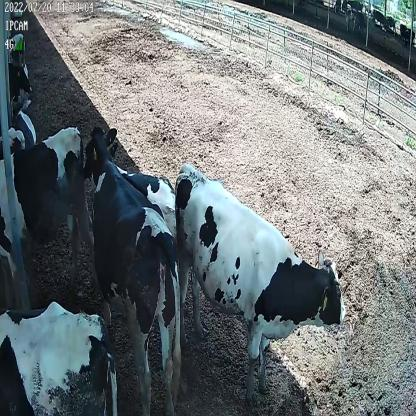cow: (173, 158, 347, 402), (82, 122, 178, 416)
